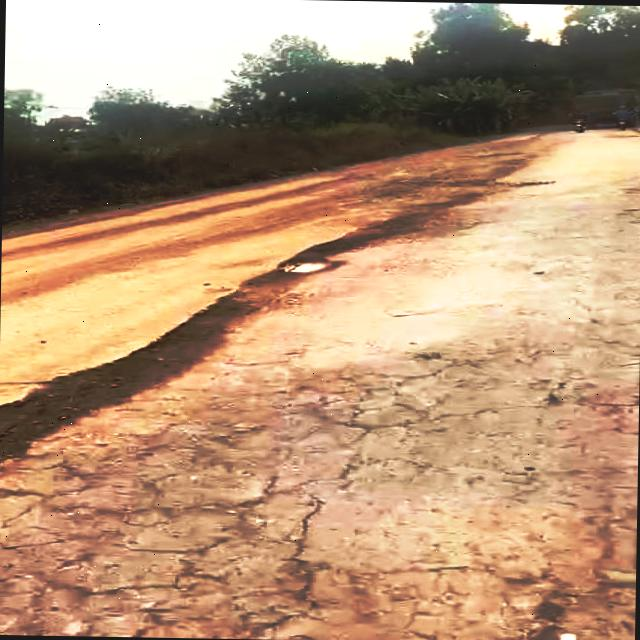pothole: (0, 367, 139, 494)
